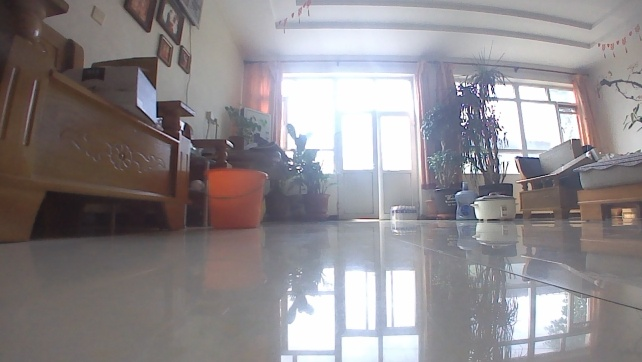sofa1: (573, 150, 641, 222)
wire: (182, 20, 194, 107), (211, 115, 220, 140), (202, 117, 211, 140)
